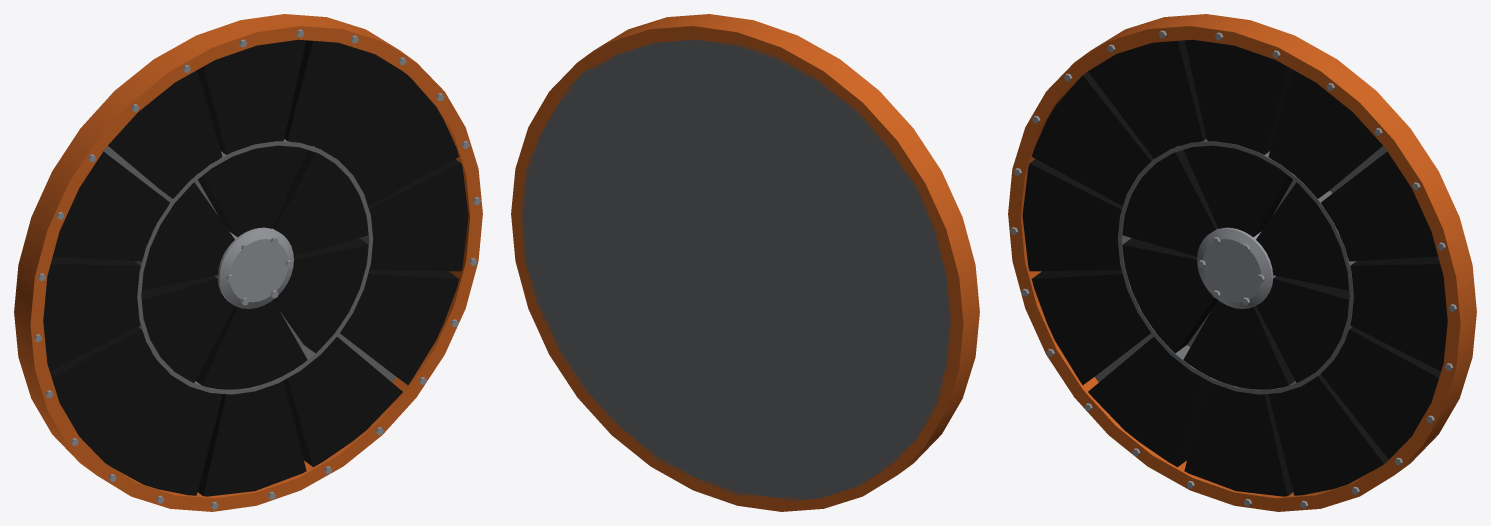
File: engine_hot_emitter_annulus.obj
The picture shows the model from 3 angles, left to right: view 1: azimuth 30°, elevation 25°; view 2: azimuth 150°, elevation 25°; view 3: azimuth 330°, elevation 25°; orthographic projection.
Visible parts, largest first — view 1: engine_hot_emitter_annulus; view 2: engine_hot_emitter_annulus; view 3: engine_hot_emitter_annulus.
Boxes of the visible parts, <box> form: engine_hot_emitter_annulus: <box>14,14,482,511</box>; engine_hot_emitter_annulus: <box>511,14,979,511</box>; engine_hot_emitter_annulus: <box>1008,14,1476,511</box>.
Bounding box in the file's own units: 4.61 × 4.61 × 0.36.
